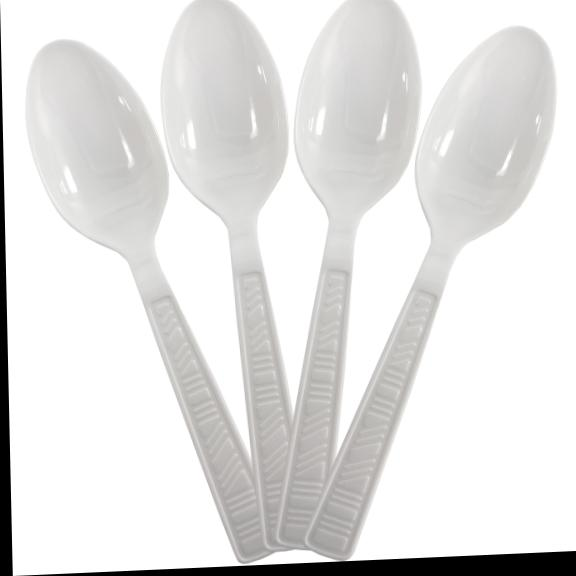Plastik: (305, 27, 556, 560), (26, 41, 269, 562), (277, 0, 420, 548), (162, 0, 293, 550)
